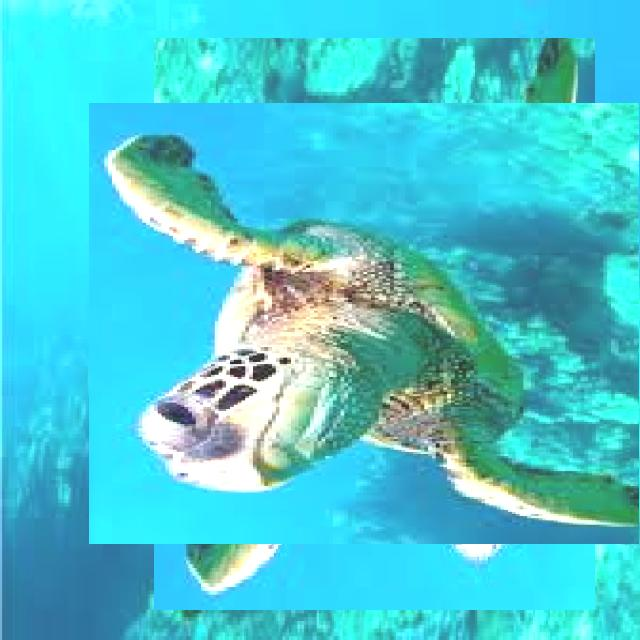Sea turtle: (121, 71, 628, 577)
